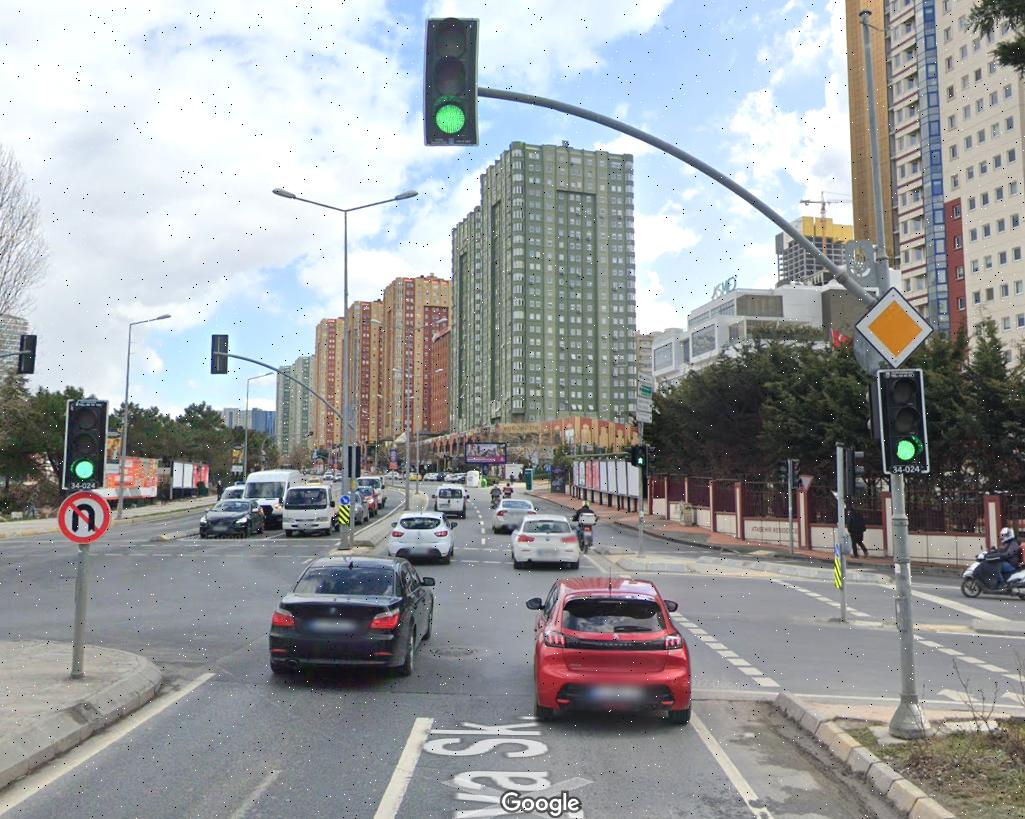greenlight: (430, 19, 474, 142), (884, 368, 922, 466), (66, 400, 103, 482)
